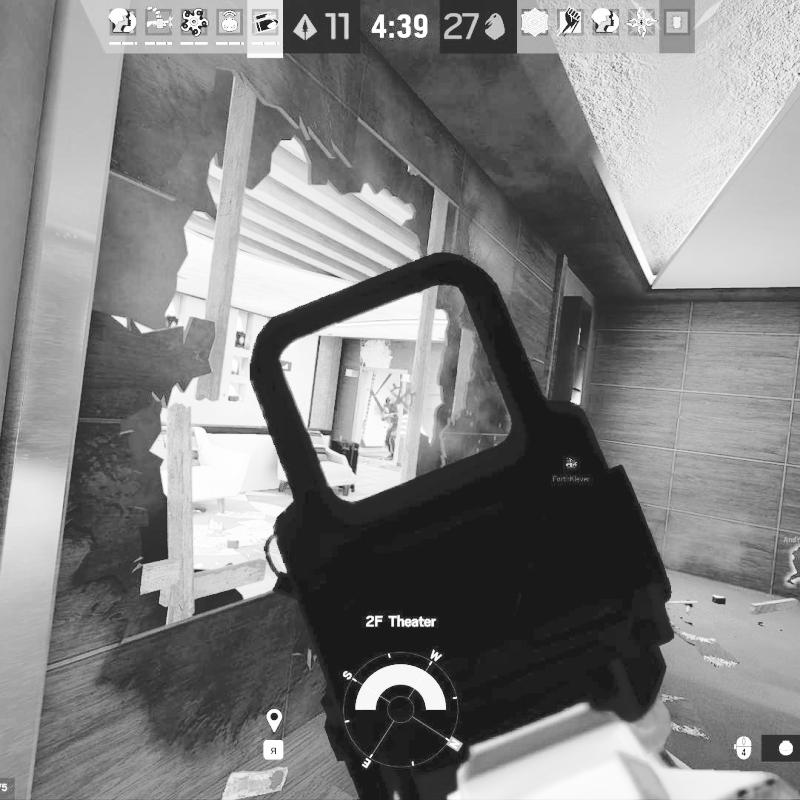Character: (380, 395, 399, 463)
Head: (385, 396, 394, 404)
